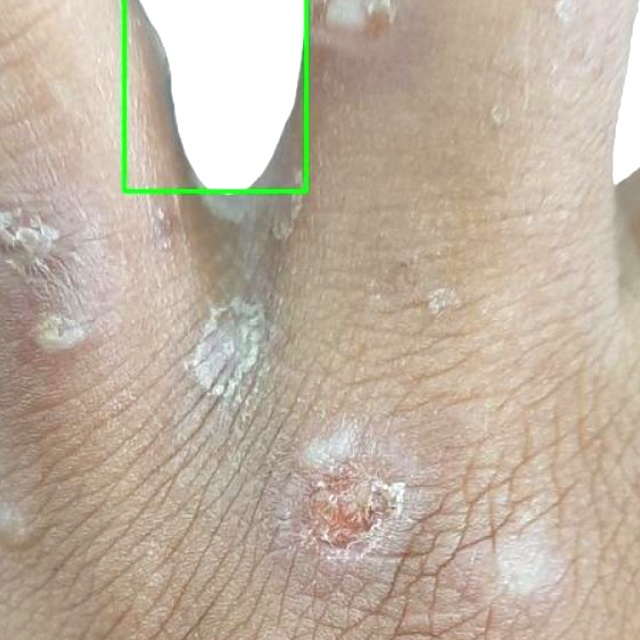Scabies: (124, 0, 306, 191)
